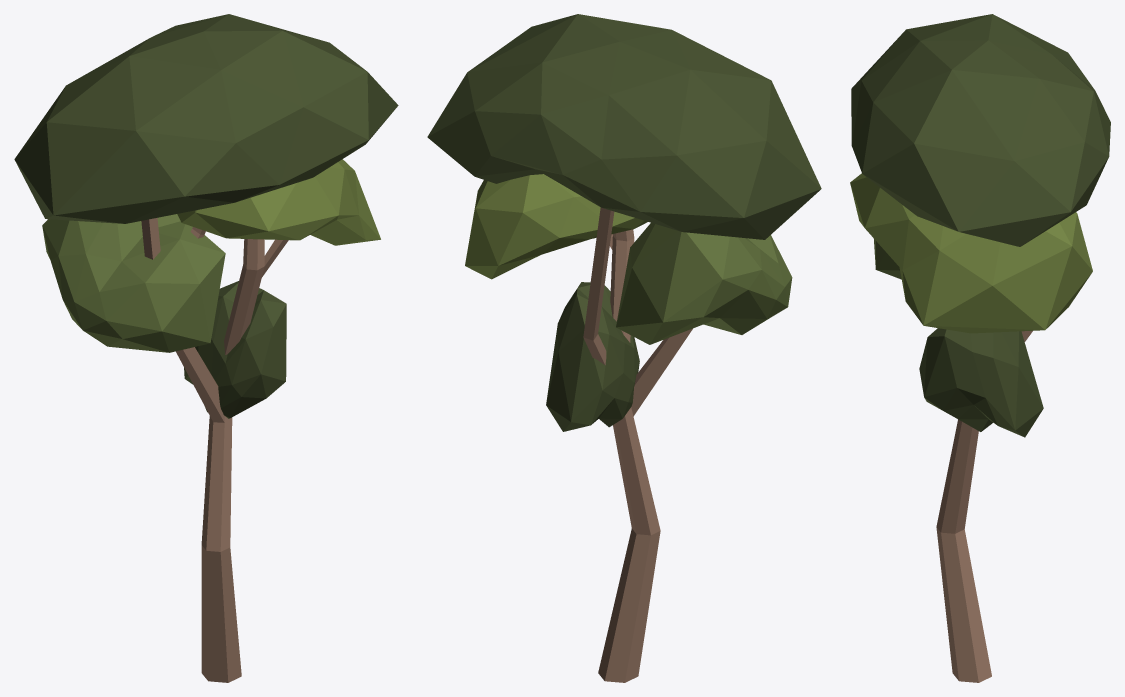
The picture shows the model from 3 angles, left to right: view 1: azimuth 30°, elevation 25°; view 2: azimuth 150°, elevation 25°; view 3: azimuth 270°, elevation 25°; orthographic projection.
Visible parts, largest first — view 1: Tree Type3 04; view 2: Tree Type3 04; view 3: Tree Type3 04.
Boxes of the visible parts, box(x1,y1,x2,y2) form: Tree Type3 04: box(14, 14, 398, 682); Tree Type3 04: box(427, 14, 821, 682); Tree Type3 04: box(850, 14, 1110, 682).
Size of the model in its own units: 3.47 by 5.96 by 2.24.
1 material, 1 textured.
